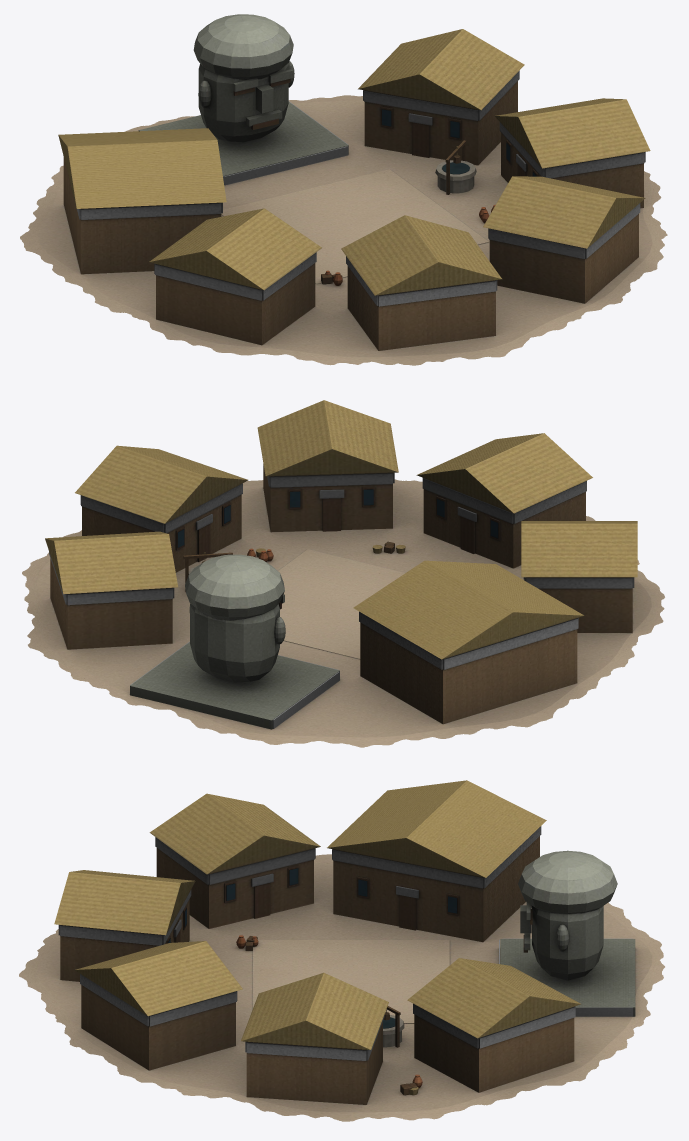
Rendered from bronze-town-small-a-americas-114c6e32.glb.
3 views of the same model, one above another, from view 1: azimuth 30°, elevation 25°; view 2: azimuth 150°, elevation 25°; view 3: azimuth 270°, elevation 25° (orthographic).
Visible parts, largest first — view 1: LOD0; view 2: LOD0; view 3: LOD0.
Part boxes in pixels (<box>): LOD0: <box>20,14,667,365</box>; LOD0: <box>22,400,664,747</box>; LOD0: <box>19,780,664,1121</box>.
Size of what is drawn, in the model's own units: 3.94 by 0.8641 by 4.03.
Materials: 3 (3 with a texture image).
